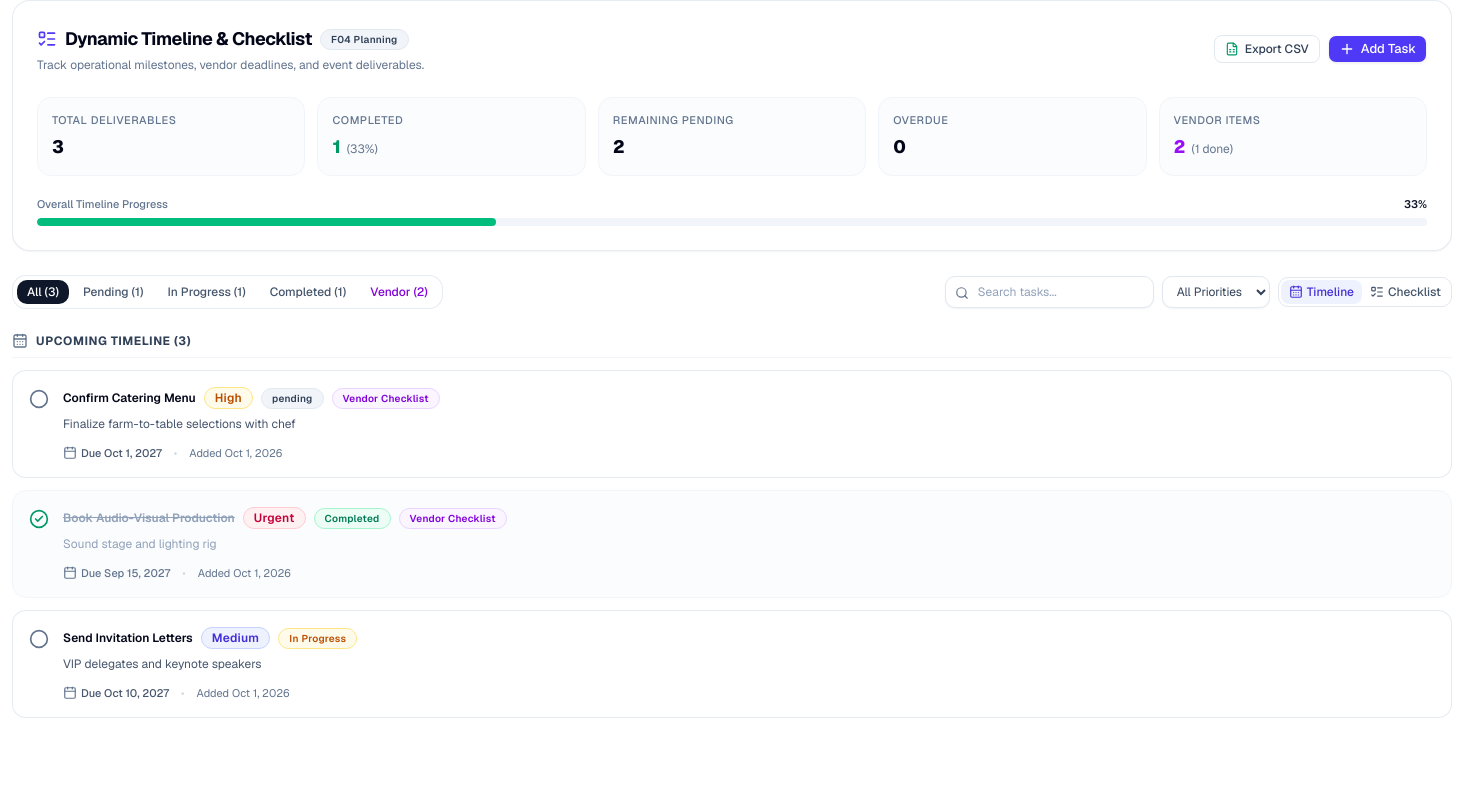
Test: TimelineChecklistManager Component › filters tasks interactively by status tab
Note: Click Completed tab
Click the button "Completed (1)". click: (308, 292)
box: [260, 280, 356, 304]
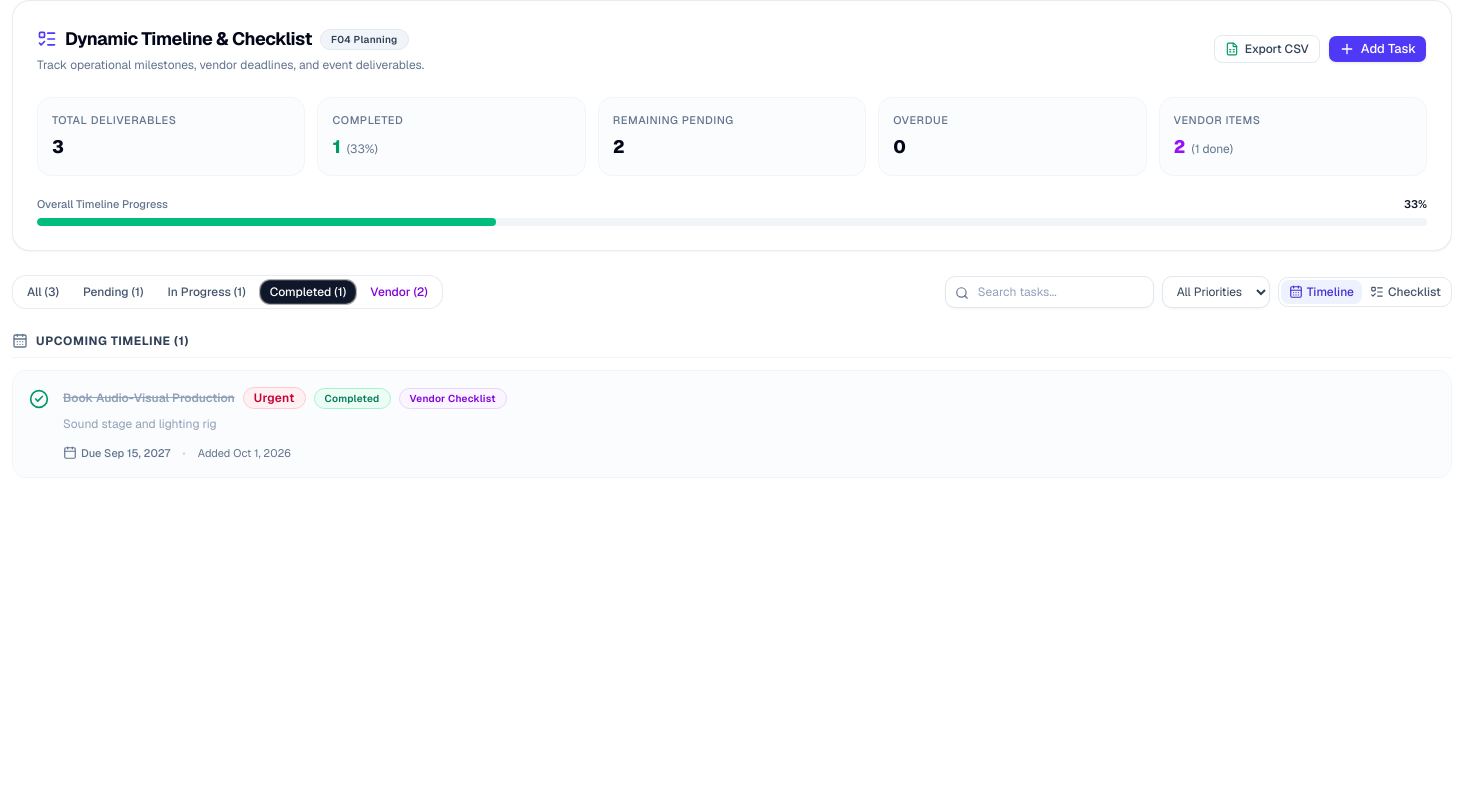
Expected: the text "Book Audio-Visual Production" is shown, [63, 390, 235, 406]
Result: the text "Confirm Catering Menu" is gone
Note: Click Vendor tab
Click the button "Vendor (2)". click: (399, 292)
box: [360, 280, 438, 304]
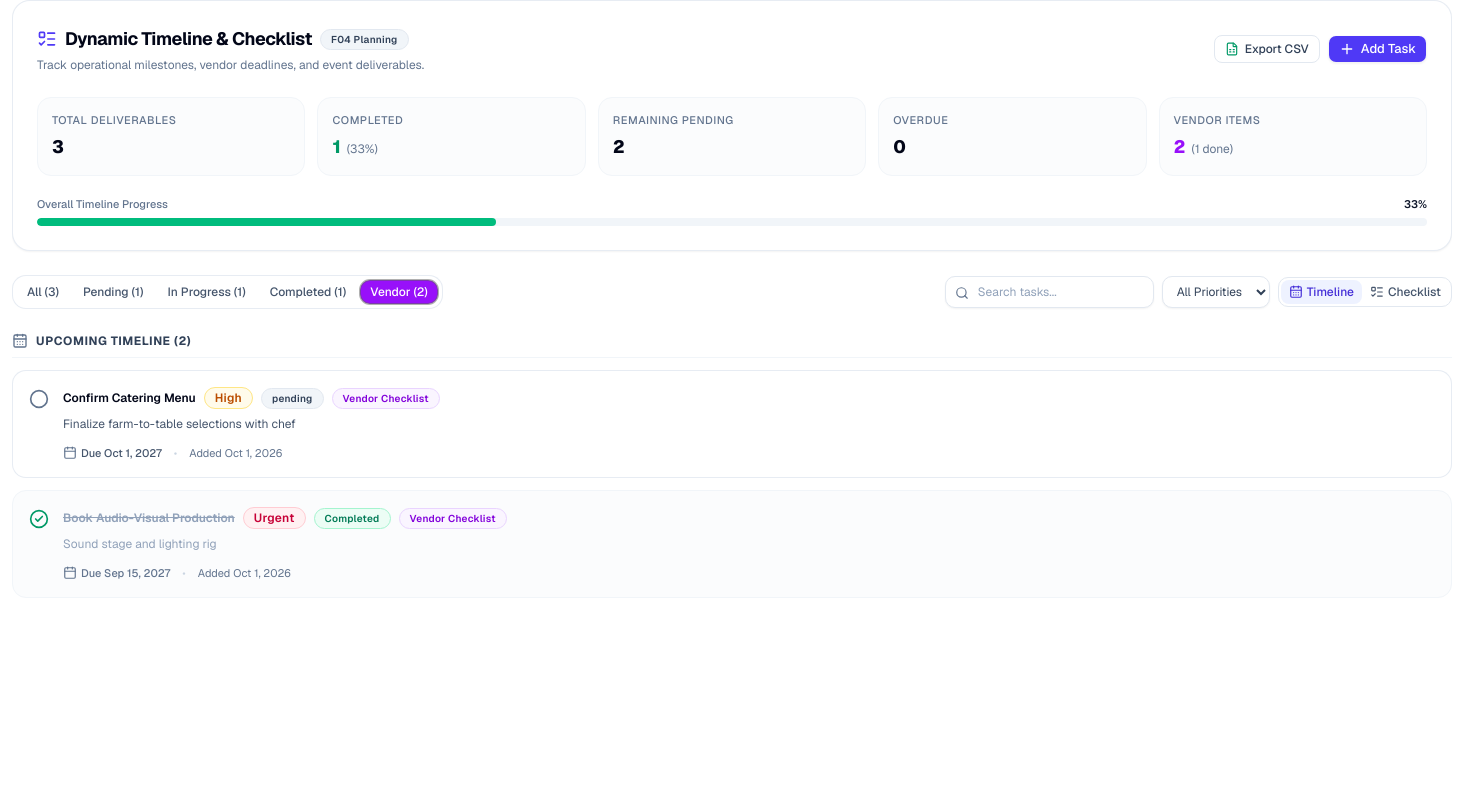
Expected: the text "Book Audio-Visual Production" is shown, [63, 510, 235, 526]
Result: the text "Confirm Catering Menu" is shown at [63, 390, 196, 406]
